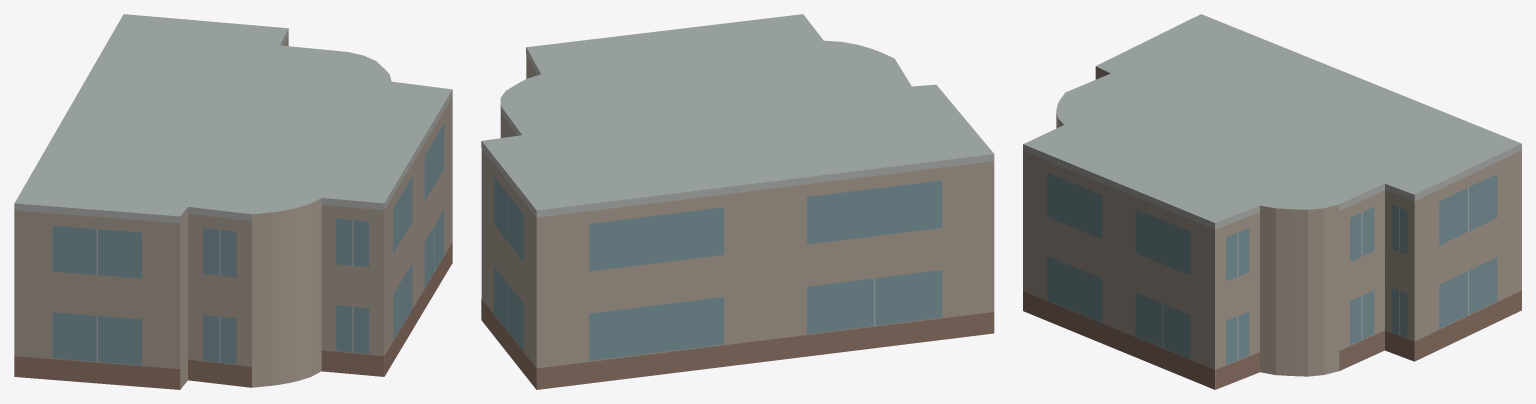
File: survey-upis-32657599.glb
The picture shows the model from 3 angles, left to right: view 1: azimuth 30°, elevation 25°; view 2: azimuth 150°, elevation 25°; view 3: azimuth 270°, elevation 25°; orthographic projection. The views are drawn at different scales.
Visible parts, largest first — view 1: survey-upis-32657599.tmp; view 2: survey-upis-32657599.tmp; view 3: survey-upis-32657599.tmp.
Part boxes in pixels (left/top/right/bottom): survey-upis-32657599.tmp: left=14, top=14, right=452, bottom=389; survey-upis-32657599.tmp: left=481, top=14, right=994, bottom=389; survey-upis-32657599.tmp: left=1023, top=14, right=1521, bottom=389.
Bounding box in the file's own units: 16.41 × 6.1 × 16.54.
